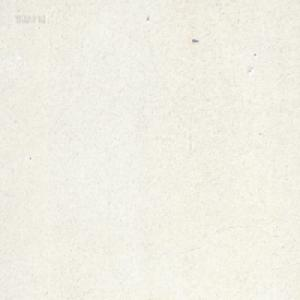Nail: (192, 37, 198, 42)
